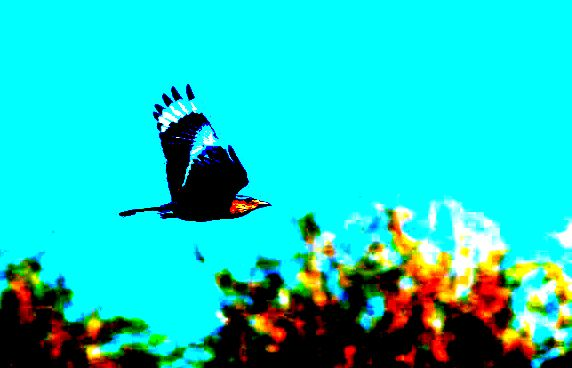Bird: (119, 80, 273, 224)
